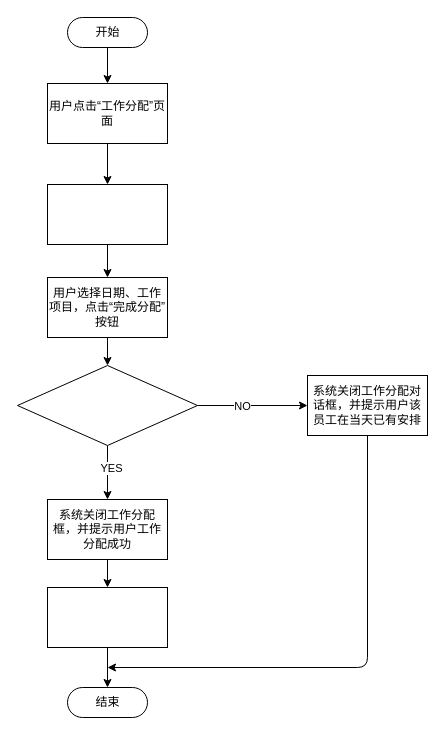
The diagram is 445 pixels wide and 735 high, and some of its shapes have lost their labels. Each missing label, with the box of its shape:
用户点击员工的“分配工作”按钮: (46, 184, 168, 244)
系统判断员工在选择的日期是否有空: (16, 364, 198, 446)
系统将该工作项目对应生产流程的工作项目自动填入被分配员工的工作流程中: (46, 586, 168, 648)
